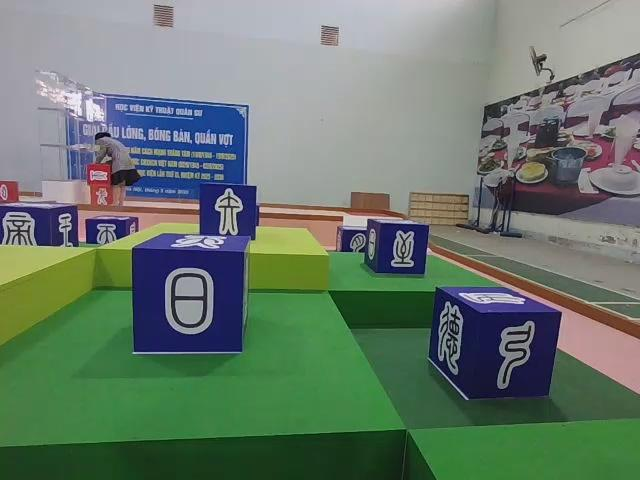R2 Fake Blue: (429, 286, 562, 401), (132, 232, 255, 356), (363, 221, 427, 278), (0, 201, 76, 248), (198, 184, 258, 243), (87, 214, 141, 244), (337, 224, 369, 252)
